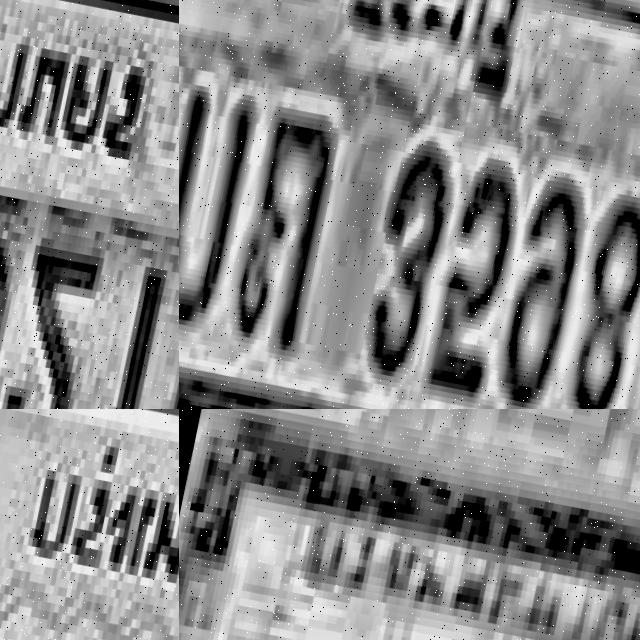license-plate: (179, 0, 640, 409), (179, 441, 640, 640), (0, 0, 179, 409), (0, 409, 179, 640)
